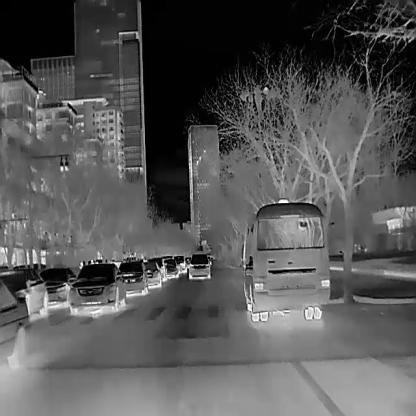bus: (242, 197, 329, 321)
car: (69, 262, 125, 314), (0, 278, 29, 370), (18, 264, 47, 315), (40, 266, 74, 300), (118, 259, 146, 297), (187, 252, 210, 278), (144, 258, 160, 287), (165, 258, 178, 276), (173, 254, 185, 272)
